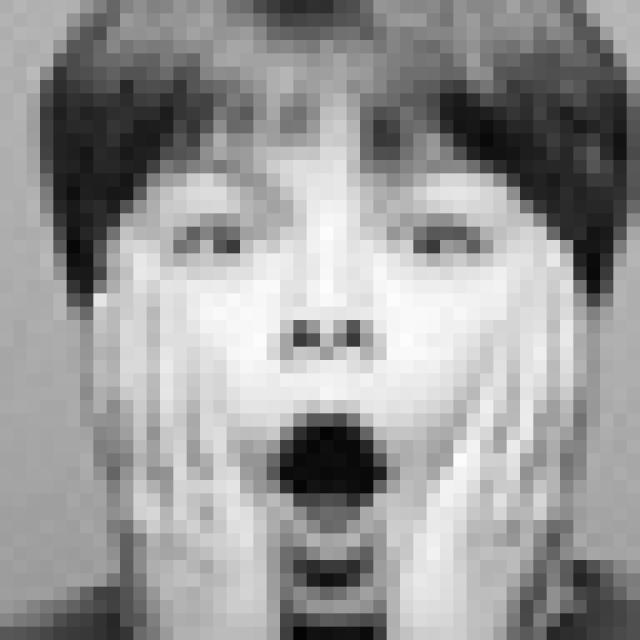surprise: (144, 148, 501, 585)
